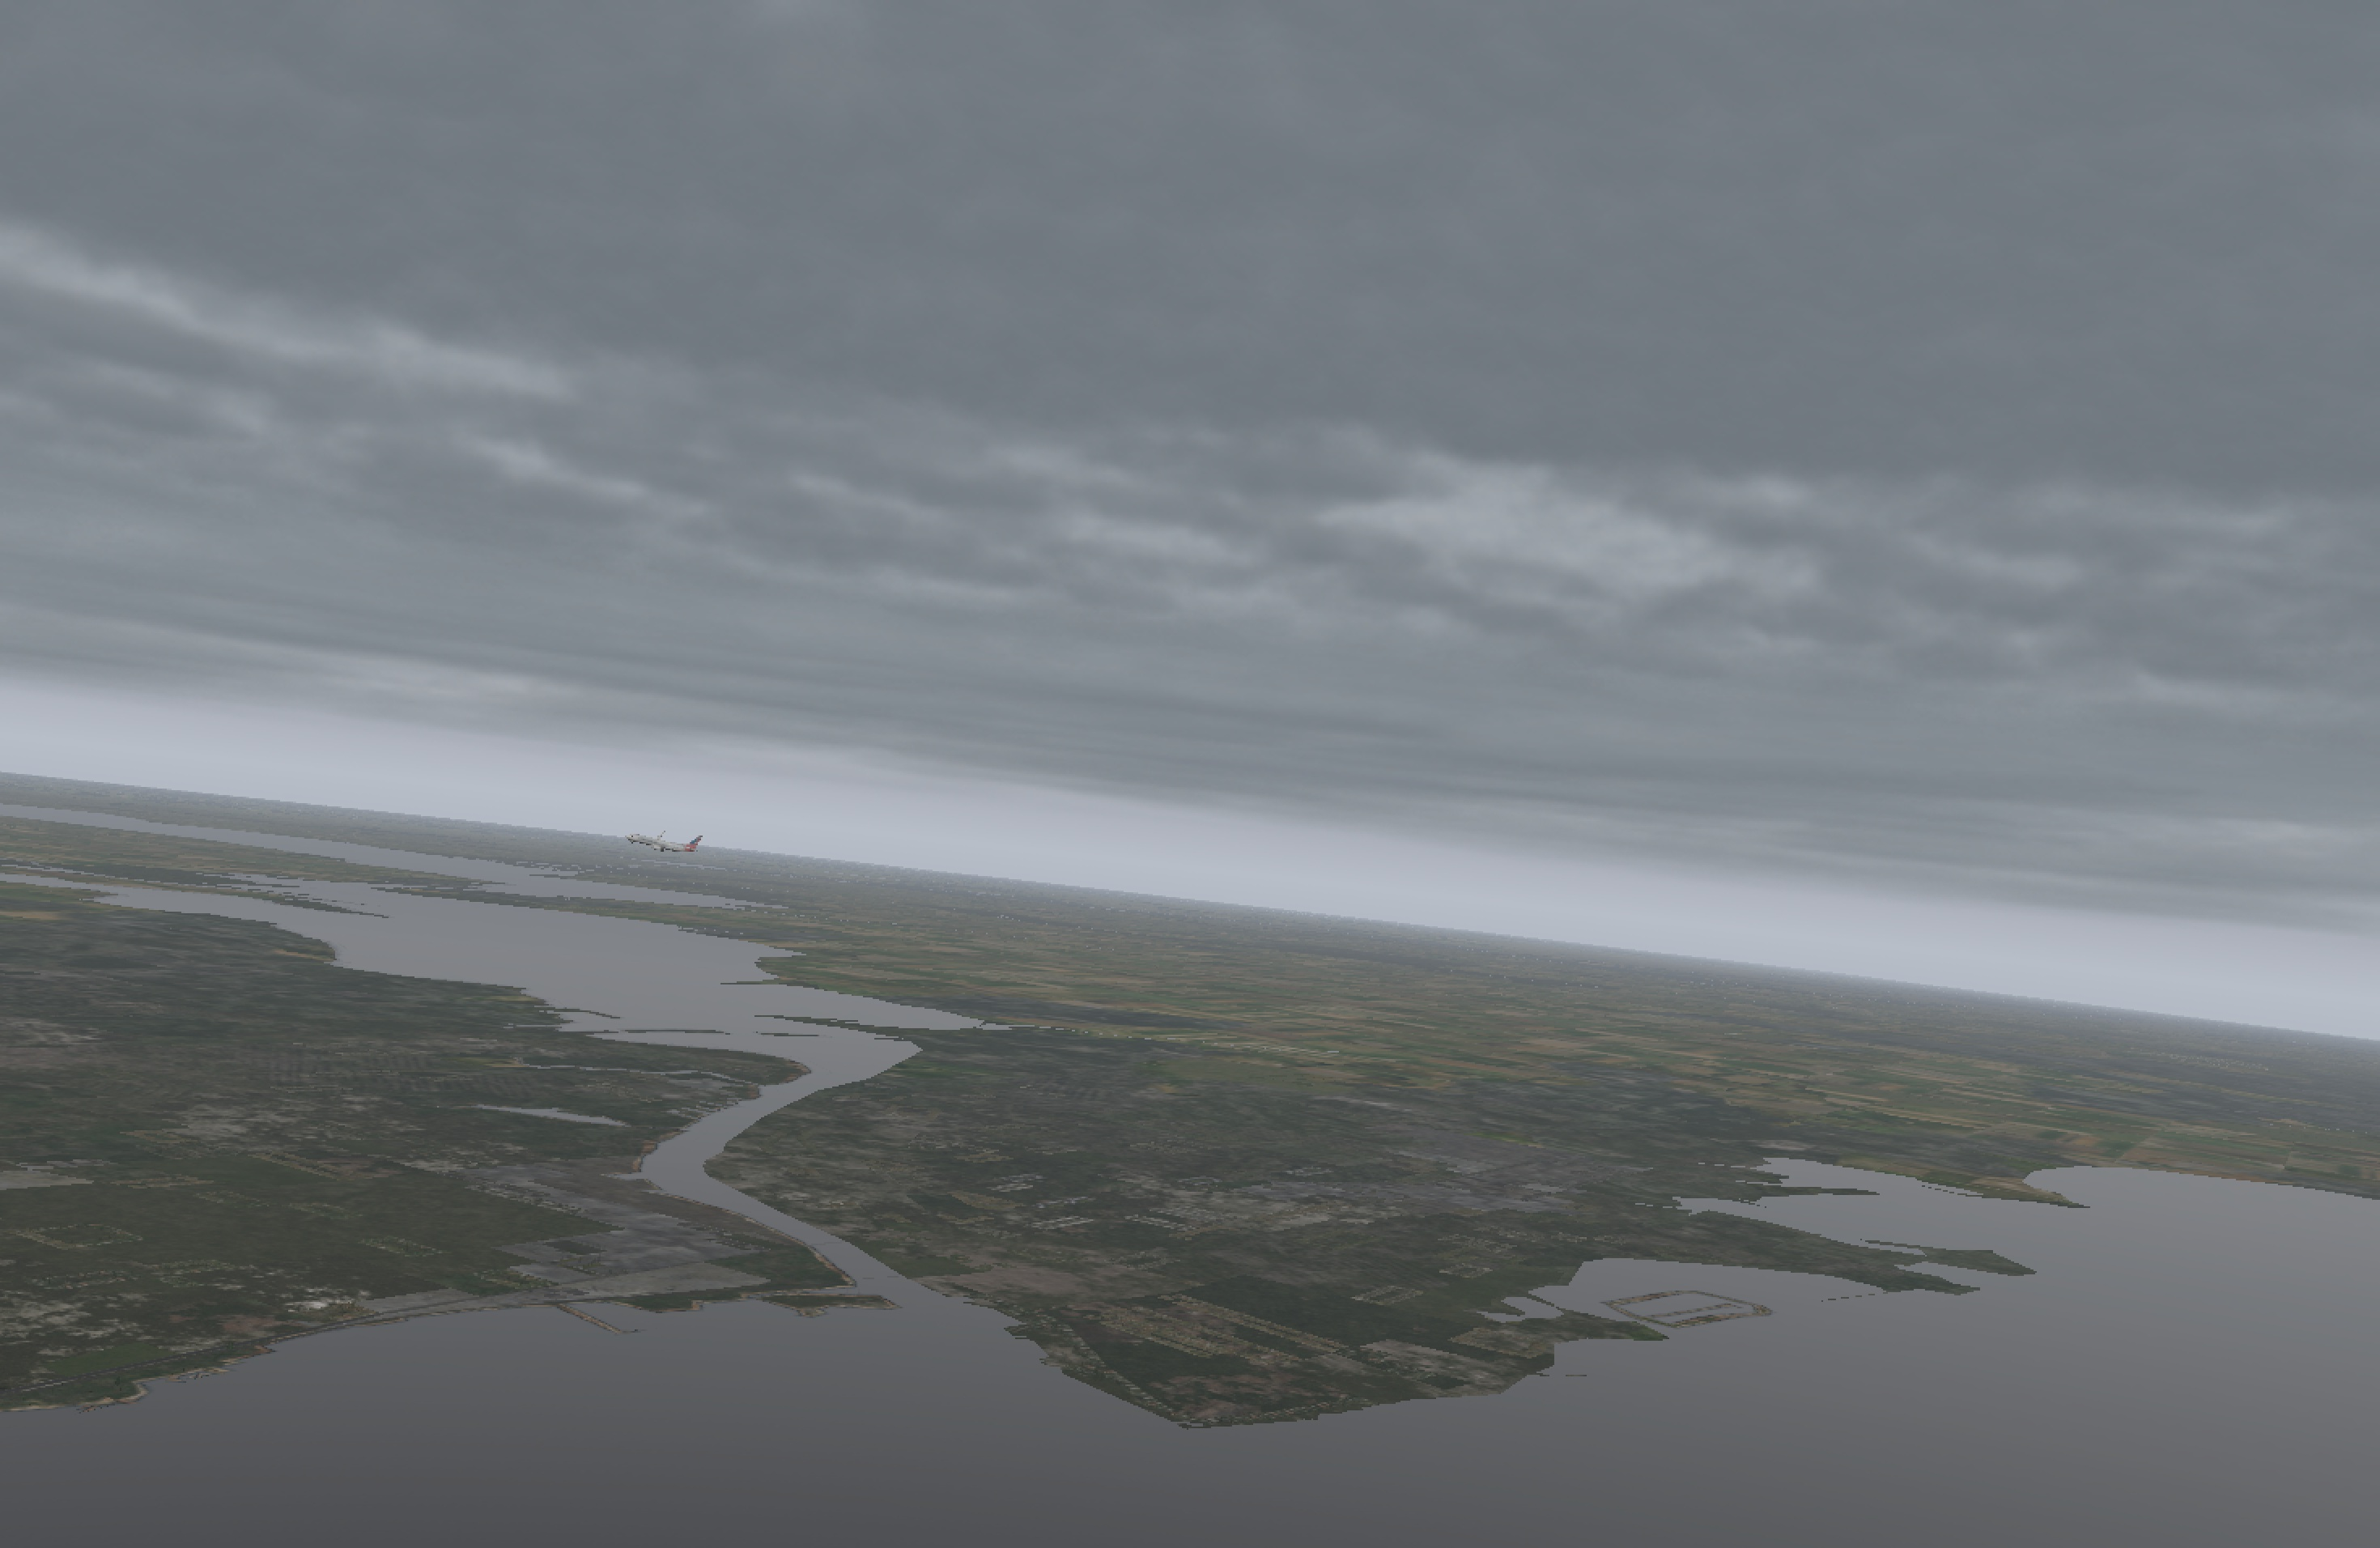aircraft: (621, 831, 696, 859)
